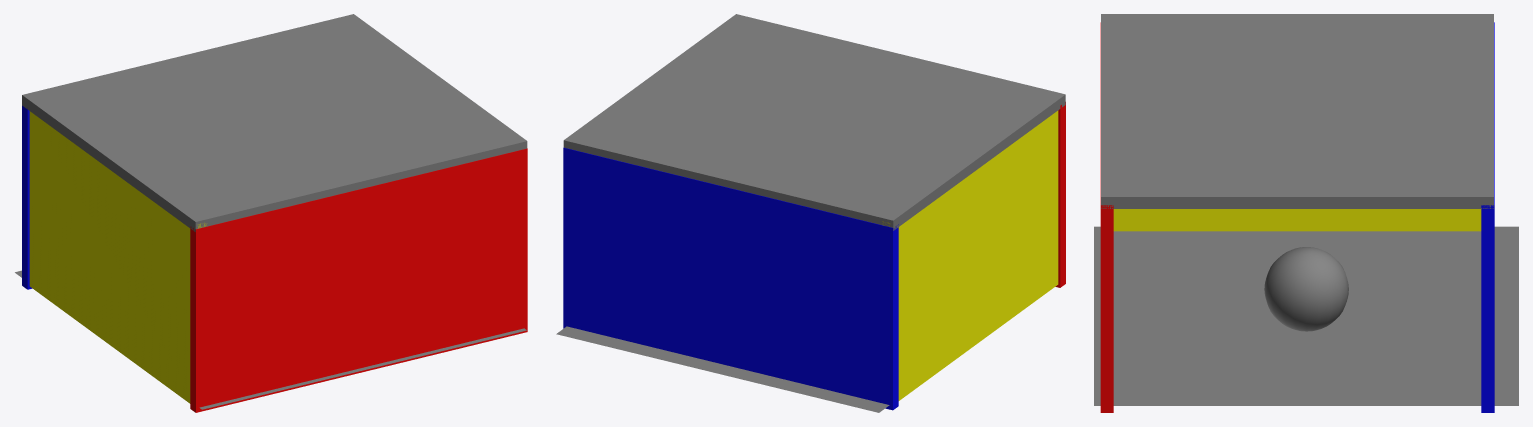
Rendered from testball.dae.
3 renders of one model, left to right at view 1: azimuth 30°, elevation 25°; view 2: azimuth 150°, elevation 25°; view 3: azimuth 270°, elevation 25°, orthographic. The views are drawn at different scales.
Visible parts, largest first — view 1: pCube1, pCube3, pCube4, pCube2, pPlane1; view 2: pCube2, pCube3, pCube4, pPlane1, pCube1; view 3: pCube3, pPlane1, pCube4, pSphere1, pCube1, pCube2.
Part boxes in pixels (x1,y1,x2,y2): pCube1: [190, 148, 527, 412]; pCube3: [22, 14, 527, 231]; pCube4: [29, 111, 206, 403]; pCube2: [22, 105, 32, 289]; pPlane1: [15, 270, 526, 409]; pCube2: [563, 147, 898, 410]; pCube3: [563, 14, 1065, 230]; pCube4: [882, 110, 1058, 400]; pPlane1: [556, 326, 889, 412]; pCube1: [1055, 102, 1065, 287]; pCube3: [1101, 14, 1493, 208]; pPlane1: [1094, 226, 1518, 405]; pCube4: [1113, 209, 1481, 231]; pSphere1: [1264, 247, 1348, 331]; pCube1: [1100, 22, 1113, 412]; pCube2: [1481, 22, 1494, 412].
Bounding box in the file's own units: 2.31 × 1.27 × 2.27.
